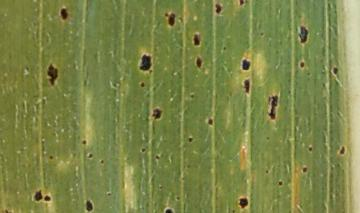tarspot: (267, 93, 278, 119), (139, 54, 153, 74), (47, 63, 58, 86), (297, 24, 309, 42), (165, 11, 176, 26), (240, 55, 250, 71), (243, 76, 251, 93), (151, 107, 162, 119), (193, 30, 200, 47), (59, 7, 68, 20), (34, 189, 43, 202), (239, 196, 248, 208), (195, 55, 202, 69), (214, 2, 222, 14), (87, 198, 93, 213), (338, 145, 346, 155), (207, 117, 215, 126), (331, 65, 338, 75), (43, 194, 51, 202), (110, 81, 119, 88), (301, 165, 308, 174), (81, 138, 88, 145), (154, 153, 161, 160), (139, 146, 146, 153), (87, 151, 93, 159), (175, 193, 181, 201), (177, 14, 183, 22), (189, 91, 195, 99), (263, 135, 271, 141), (163, 209, 174, 213), (48, 152, 54, 159), (299, 61, 305, 68), (305, 69, 311, 76), (321, 81, 327, 88), (99, 157, 104, 165), (158, 183, 163, 191), (238, 1, 246, 6), (308, 144, 313, 152), (106, 191, 112, 197), (221, 45, 227, 51), (259, 31, 265, 37), (140, 81, 145, 88), (188, 136, 193, 143), (278, 179, 283, 186), (287, 88, 292, 94), (5, 209, 11, 213), (265, 168, 269, 174), (231, 209, 236, 213)
